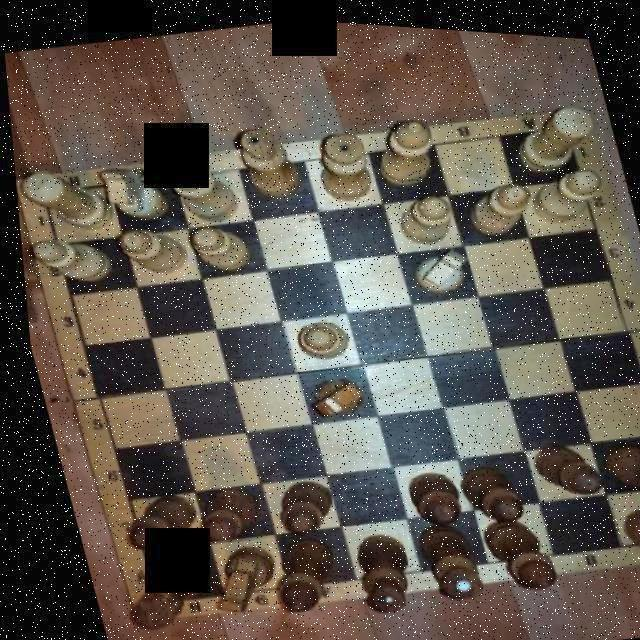chess-table-corners: (520, 90, 598, 152), (113, 568, 187, 625), (12, 168, 78, 222), (636, 494, 640, 554)
